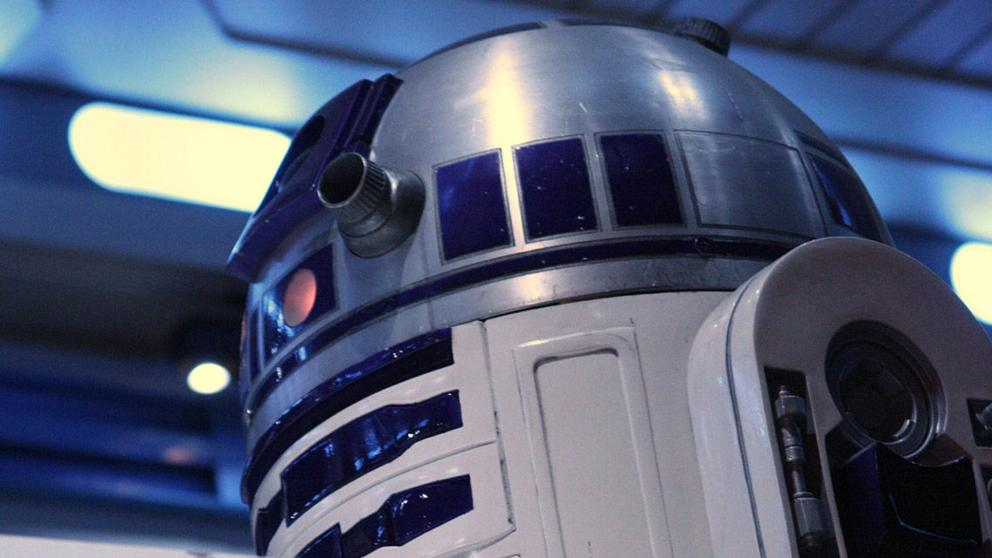r2d2: (226, 16, 992, 553)
